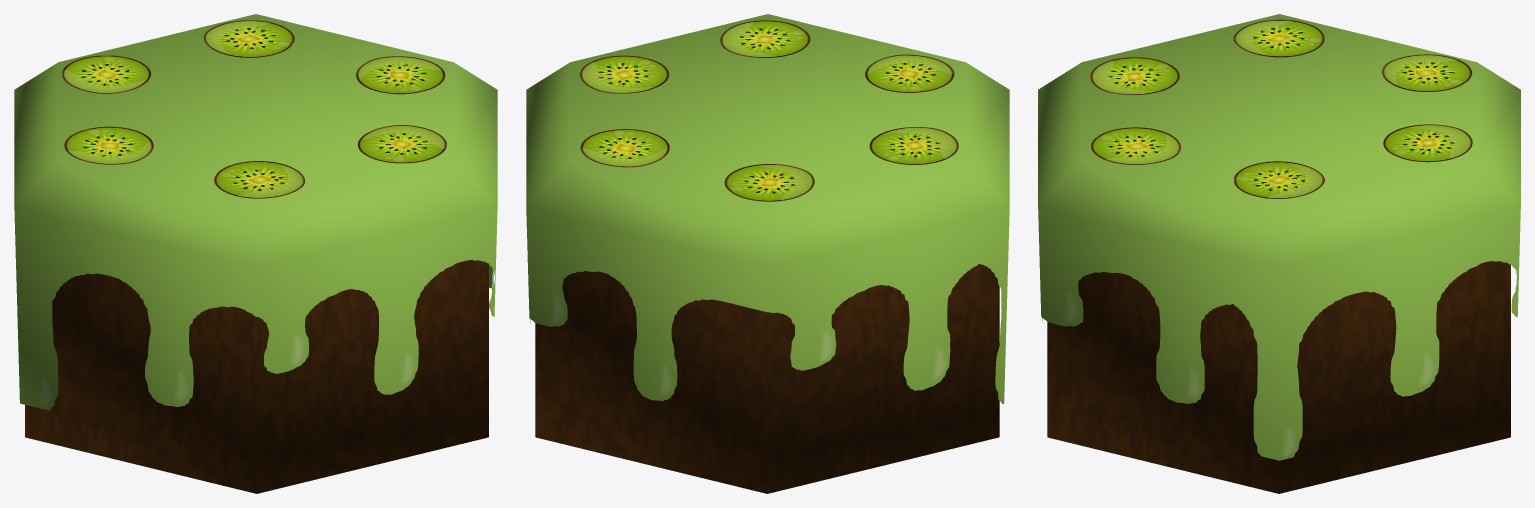
Rendered from Cake_A_02.FBX.
3 renders of one model, left to right at view 1: azimuth 30°, elevation 25°; view 2: azimuth 150°, elevation 25°; view 3: azimuth 270°, elevation 25°, orthographic.
Visible parts, largest first — view 1: Cake; view 2: Cake; view 3: Cake.
Boxes of the visible parts, x1,y1,x2,y2 form: Cake: [14, 14, 497, 493]; Cake: [526, 14, 1009, 493]; Cake: [1038, 14, 1520, 493].
Size of the model in its own units: 106 by 56.96 by 92.14.
